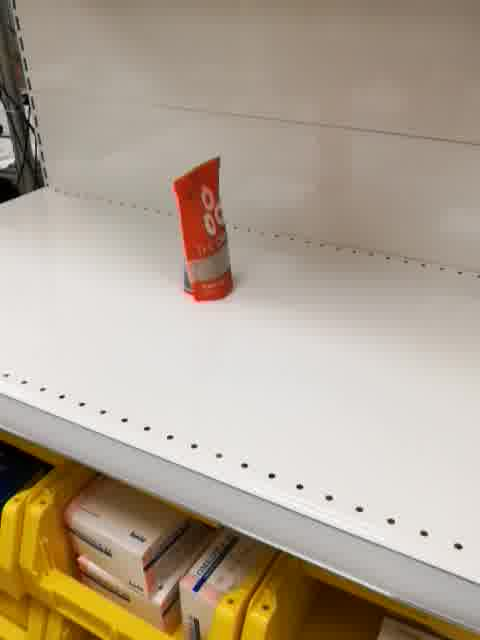whitechia: (173, 153, 235, 303)
